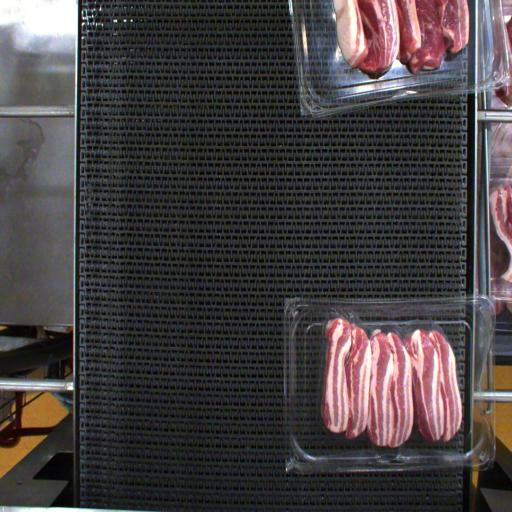unsealed: (318, 306, 462, 392)
